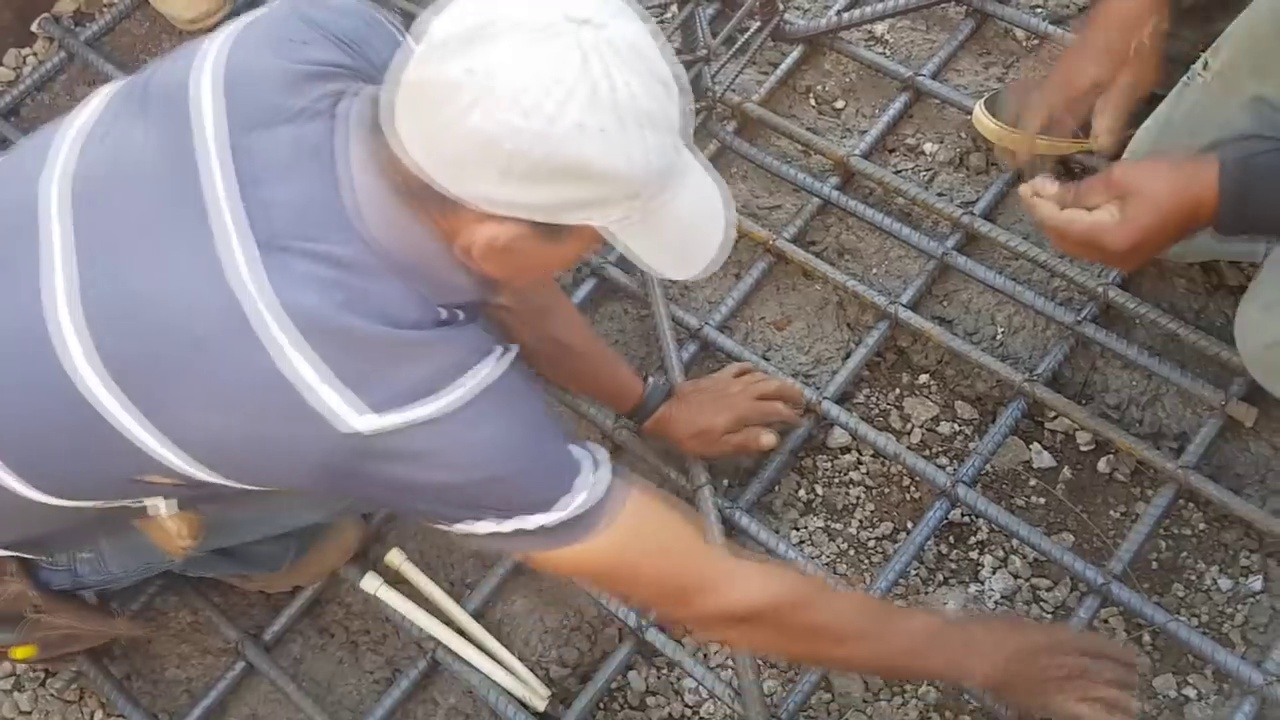helmet-off: (377, 6, 707, 300)
person: (7, 6, 1152, 719), (933, 7, 1280, 343)
